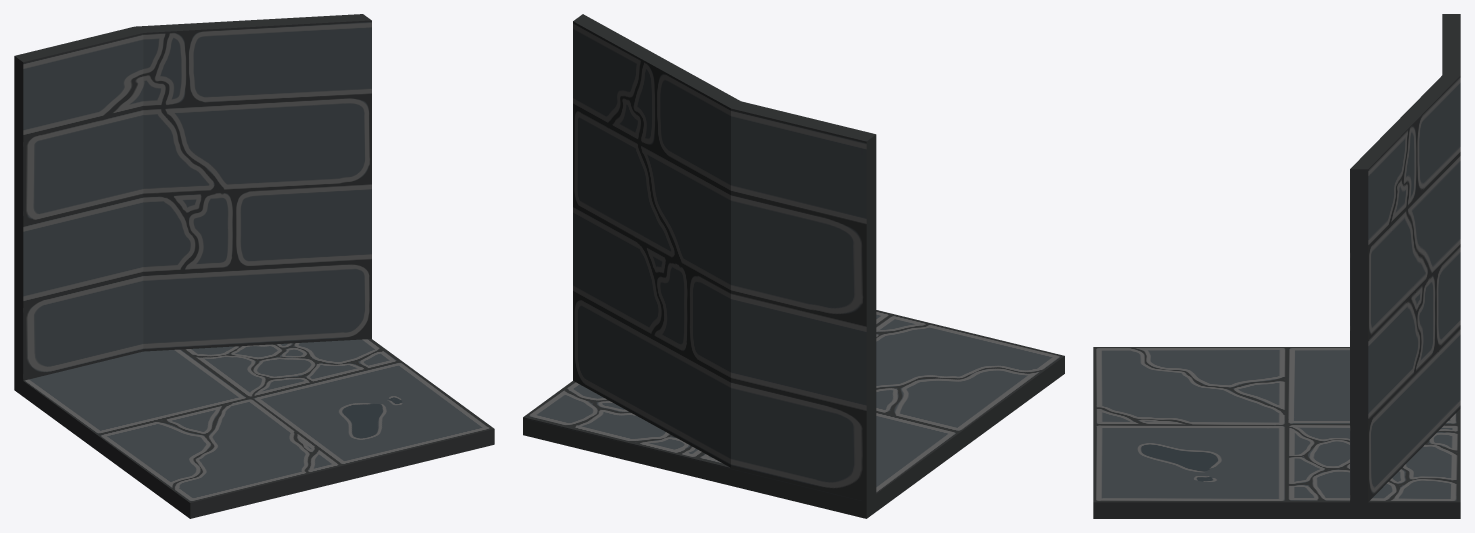
File: Wall-XLCURVE-EbN_v1.1.fbx
3 views of the same model, side by side, from view 1: azimuth 30°, elevation 25°; view 2: azimuth 150°, elevation 25°; view 3: azimuth 270°, elevation 25° (orthographic). The views are drawn at different scales.
Parts seen in each view (by area): view 1: Tile_Main.050; view 2: Tile_Main.050; view 3: Tile_Main.050.
Boxes of the visible parts, <box> form: Tile_Main.050: <box>14,14,494,518</box>; Tile_Main.050: <box>523,14,1064,518</box>; Tile_Main.050: <box>1093,14,1460,518</box>.
Bounding box in the file's own units: 100 × 100 × 105.
